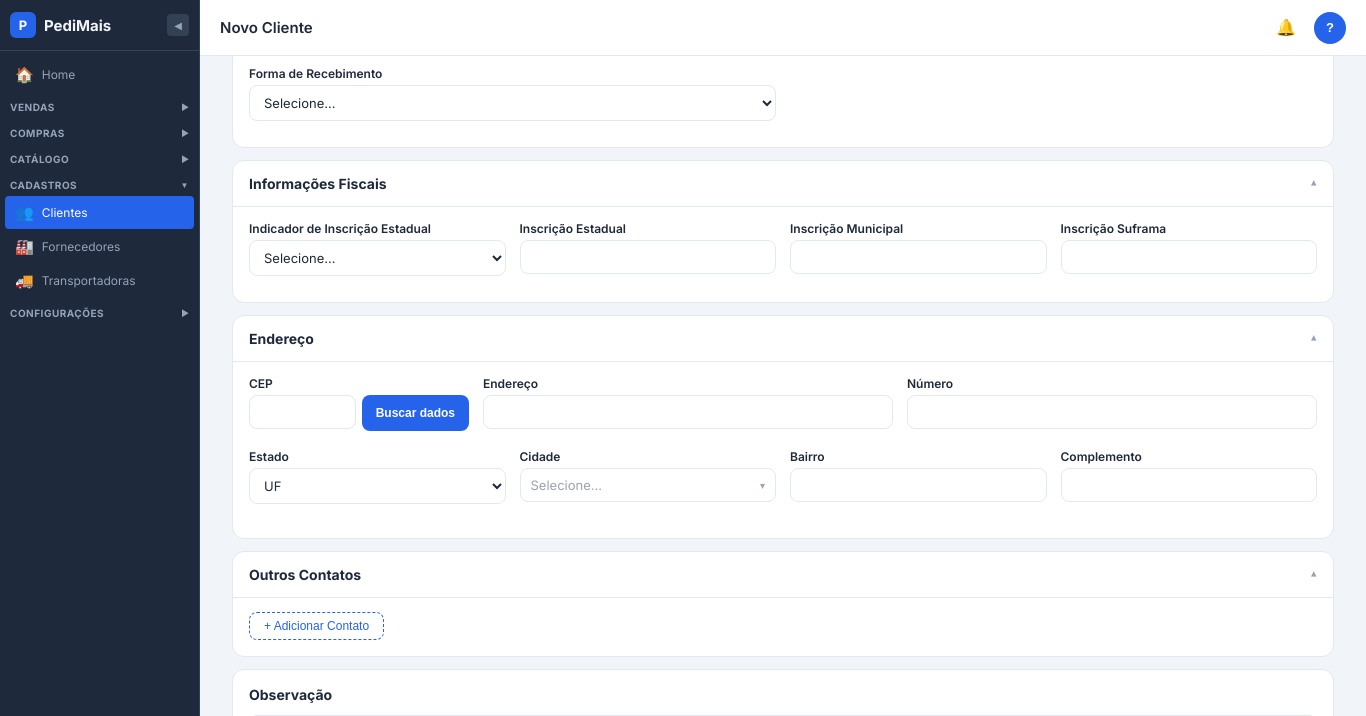
Test: ClienteFormView › shows an error message when CEP lookup fails, without blocking manual entry
(page scrolled)
Type "00000000" into the field with test id "cep" at (302, 412), box [249,395,356,429]
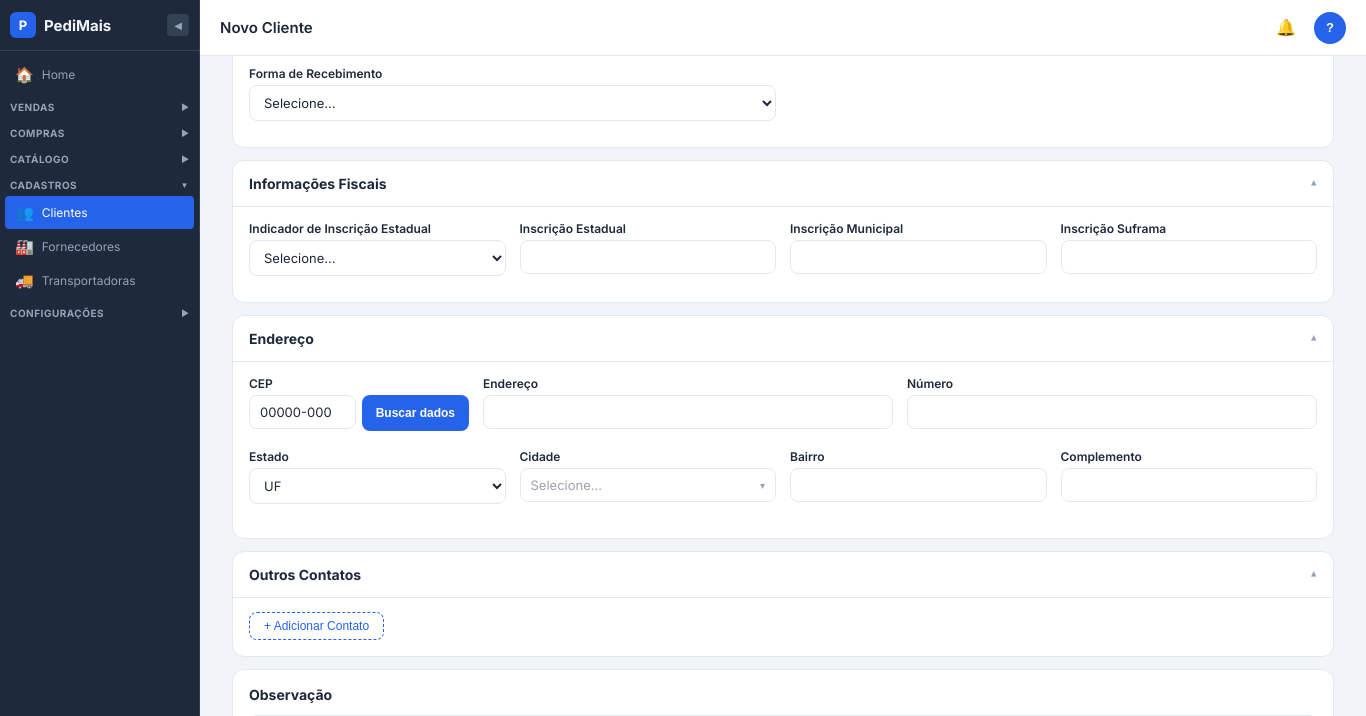
Click the button with test id "buscar-cep" at (415, 413), box [362,395,469,431]
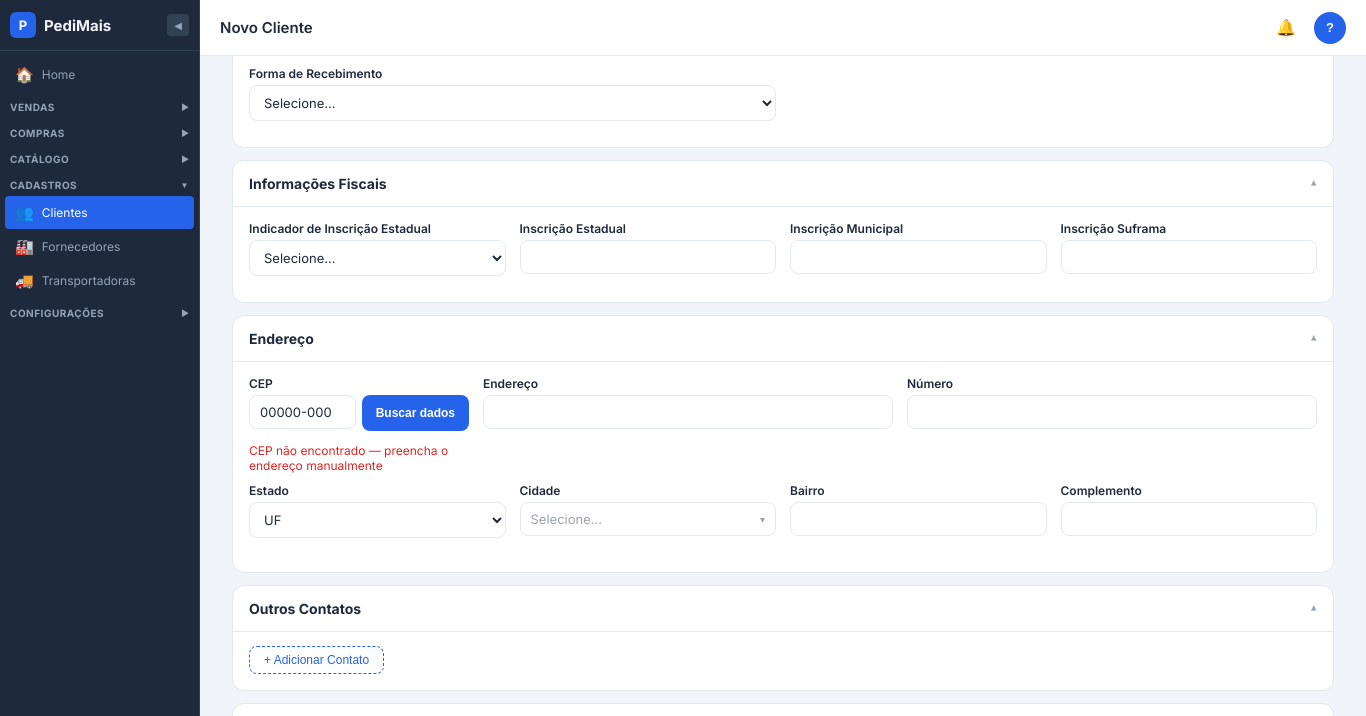
Expected: the text "CEP não encontrado" is shown, [249,443,448,473]
